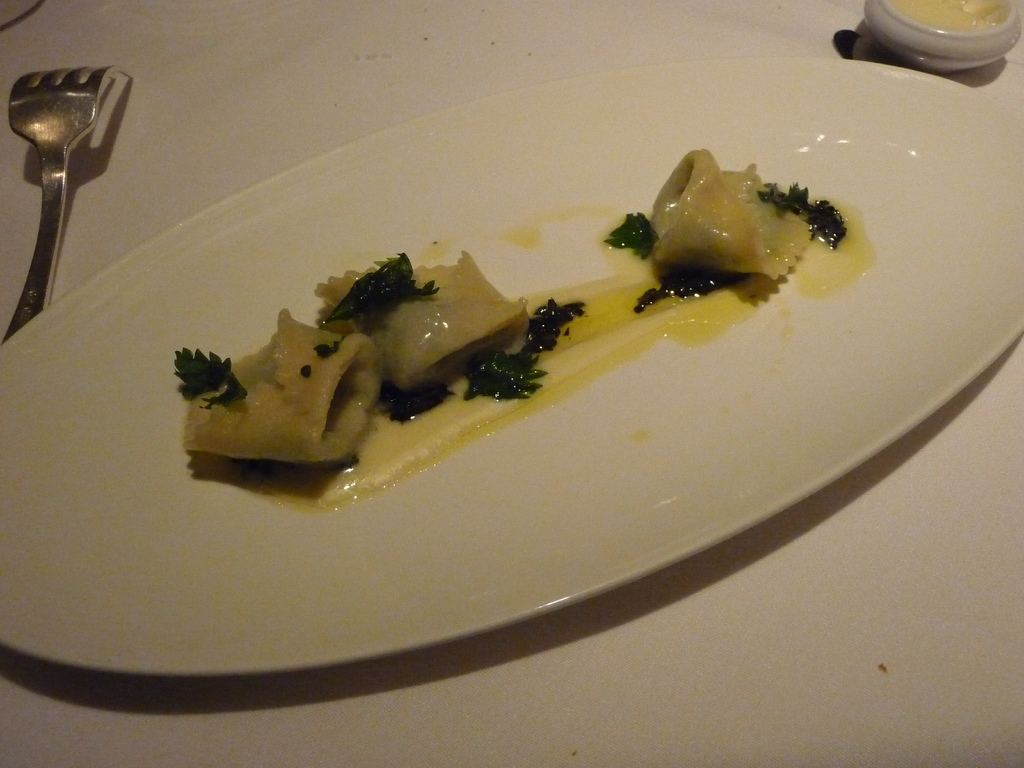plate: (33, 90, 1023, 648)
